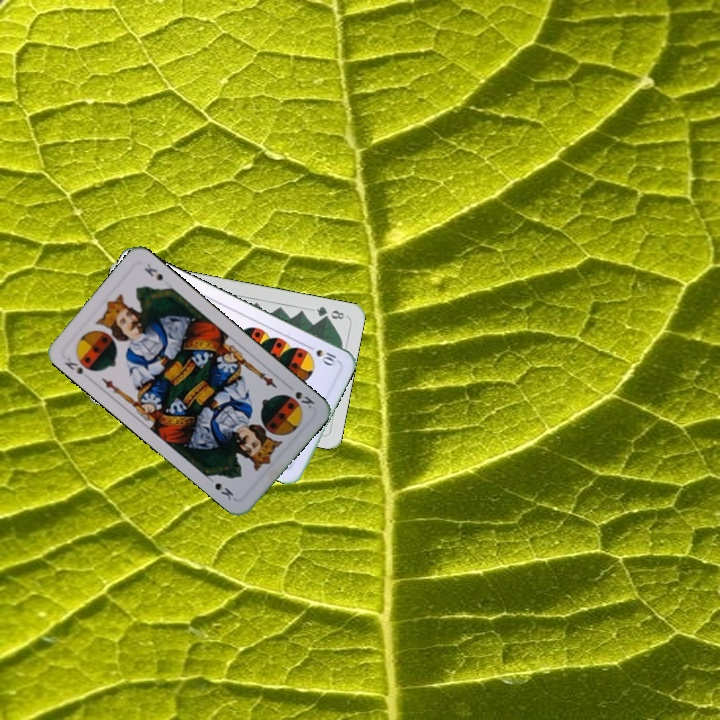G8: (312, 302, 349, 322)
S10: (303, 341, 341, 368)
SK: (291, 387, 317, 411), (60, 353, 85, 377)
